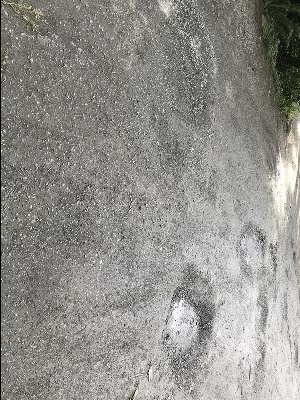pothole: (161, 0, 219, 132), (160, 269, 215, 377), (237, 218, 268, 285), (234, 338, 267, 395), (254, 291, 270, 333)
